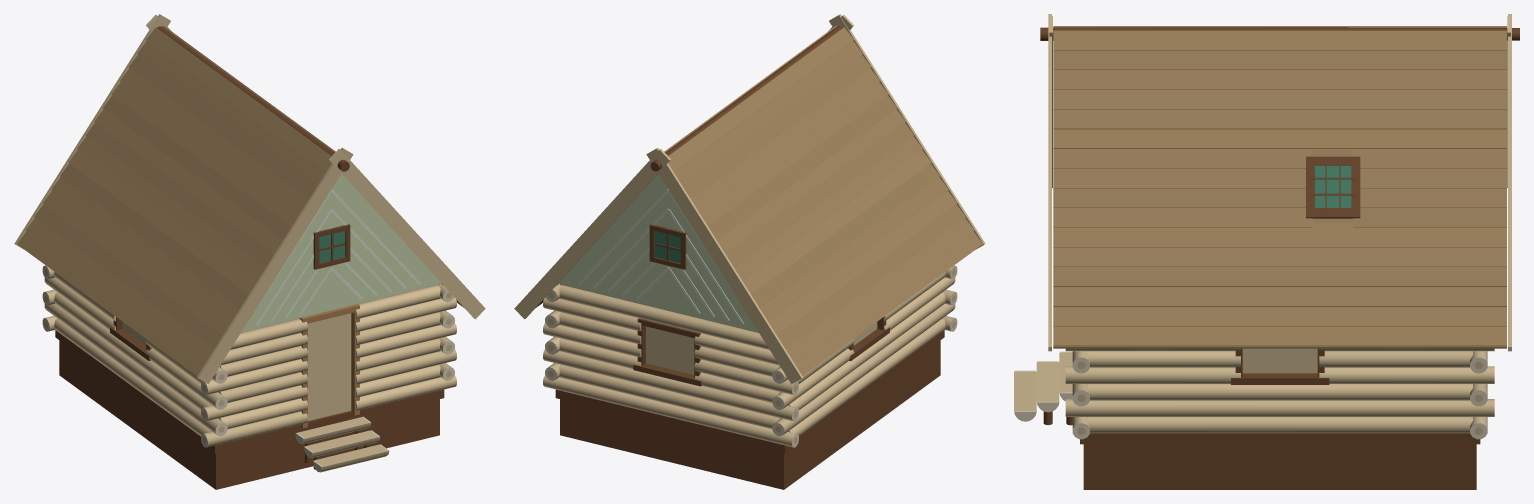
File: guest_tan.glb
3 renders of one model, left to right at view 1: azimuth 30°, elevation 25°; view 2: azimuth 150°, elevation 25°; view 3: azimuth 270°, elevation 25°, orthographic. The views are drawn at different scales.
Visible parts, largest first — view 1: guest_tan, guest_tan_far, guest_tan_pane; view 2: guest_tan, guest_tan_far, guest_tan_pane; view 3: guest_tan, guest_tan_far, guest_tan_pane.
Boxes of the visible parts, x1,y1,x2,y2 form: guest_tan: [14, 14, 485, 472]; guest_tan_far: [59, 284, 439, 489]; guest_tan_pane: [319, 231, 345, 263]; guest_tan: [514, 14, 985, 453]; guest_tan_far: [560, 284, 940, 489]; guest_tan_pane: [654, 231, 680, 263]; guest_tan: [1014, 14, 1519, 444]; guest_tan_far: [1053, 27, 1506, 489]; guest_tan_pane: [1315, 165, 1351, 207].
Size of the model in its own units: 5.51 by 5.93 by 6.69.
